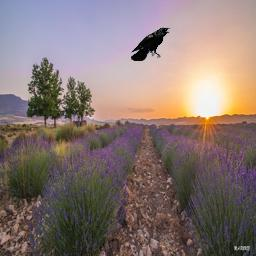Crow: (131, 27, 170, 61)
